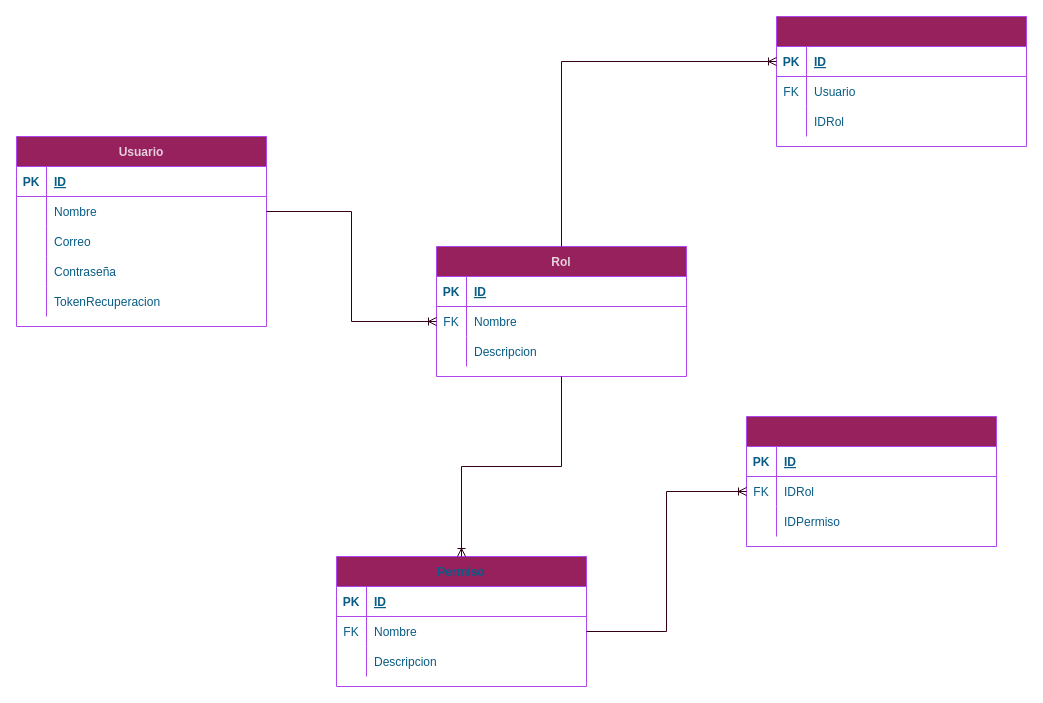
The diagram is 1043 pixels wide and 703 high, and some of its shapes have lost their labels. Each missing label, with the box of its shape:
Permiso_Rol: (746, 416, 996, 546)
Rol_Usuario: (776, 16, 1026, 146)
